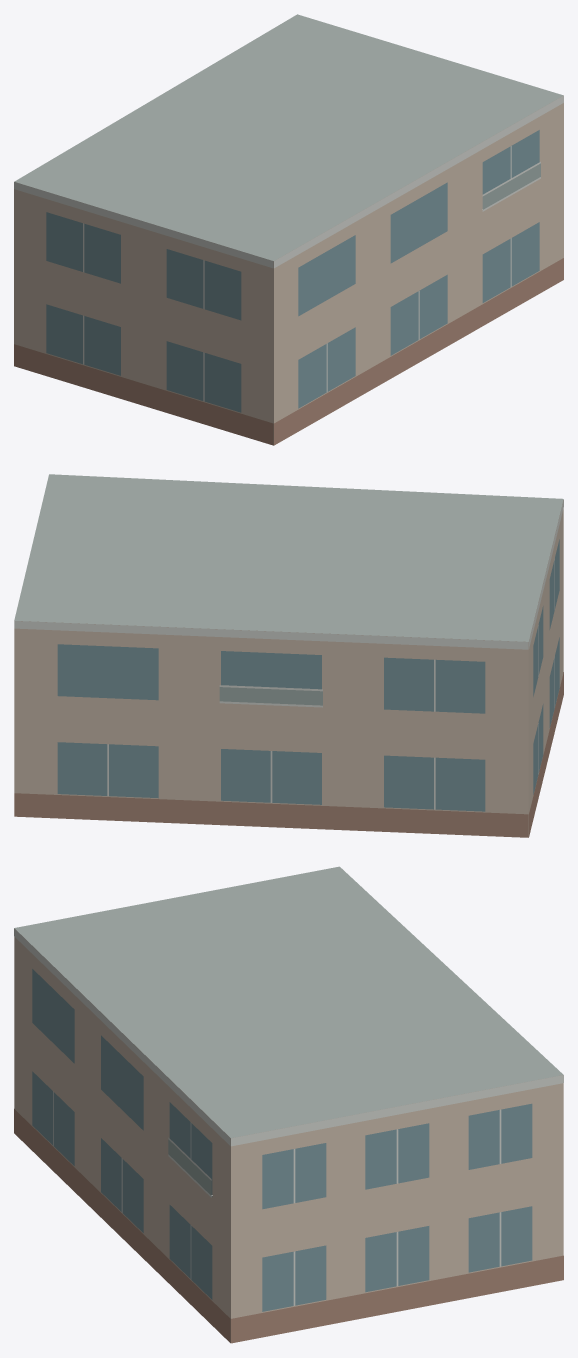
File: survey-upis-32668628.glb
3 renders of one model, top to bottom at view 1: azimuth 30°, elevation 25°; view 2: azimuth 150°, elevation 25°; view 3: azimuth 270°, elevation 25°, orthographic. The views are drawn at different scales.
Parts seen in each view (by area): view 1: survey-upis-32668628.tmp; view 2: survey-upis-32668628.tmp; view 3: survey-upis-32668628.tmp.
Part boxes in pixels (x1,y1,x2,y2): survey-upis-32668628.tmp: (14, 14, 563, 445); survey-upis-32668628.tmp: (14, 474, 563, 837); survey-upis-32668628.tmp: (14, 866, 563, 1343).
Bounding box in the file's own units: 17.34 × 6.1 × 14.82.
